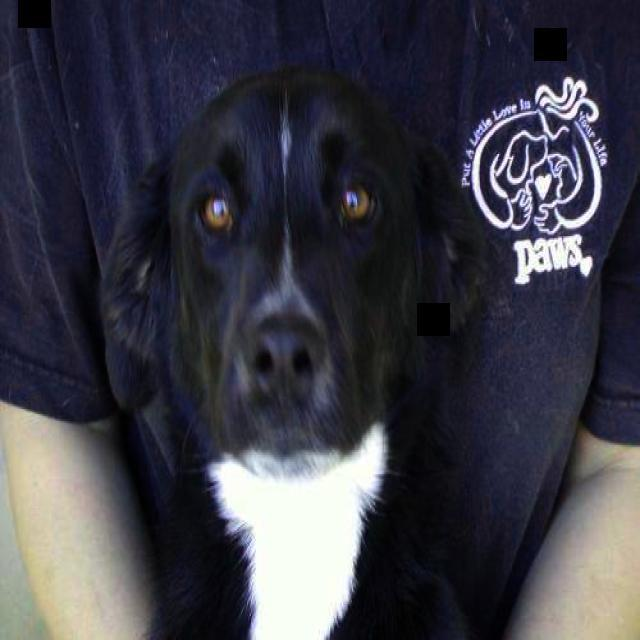adult_dog: (97, 60, 488, 640)
